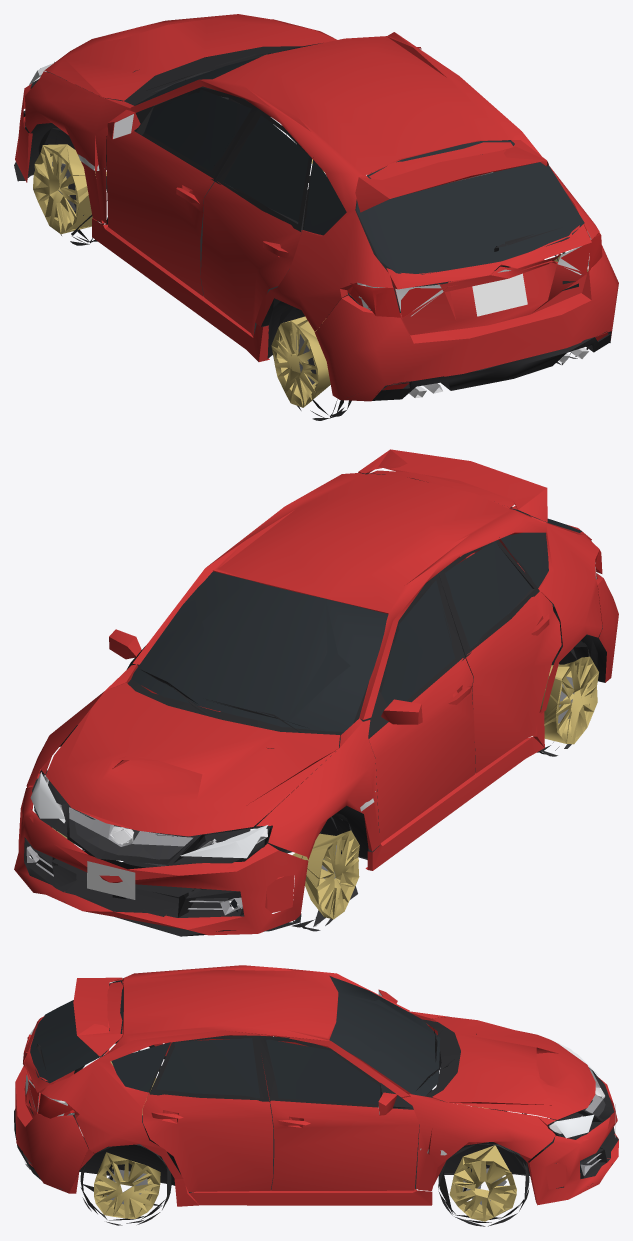
Rendered from impreza_lo.glb.
3 views of the same model, one above another, from view 1: azimuth 30°, elevation 25°; view 2: azimuth 150°, elevation 25°; view 3: azimuth 270°, elevation 25° (orthographic). The views are drawn at different scales.
Visible parts, largest first — view 1: body, wheel_fl, wheel_rl; view 2: body, wheel_fl, wheel_rl; view 3: body, wheel_fr, wheel_rr.
Part boxes in pixels (left/top/right/bottom): body: left=14, top=14, right=618, bottom=401; wheel_fl: left=33, top=128, right=107, bottom=245; wheel_rl: left=271, top=305, right=351, bottom=420; body: left=14, top=449, right=618, bottom=936; wheel_fl: left=286, top=813, right=359, bottom=931; wheel_rl: left=537, top=636, right=598, bottom=756; body: left=14, top=965, right=618, bottom=1206; wheel_fr: left=438, top=1142, right=529, bottom=1226; wheel_rr: left=80, top=1144, right=171, bottom=1225.
Bounding box in the file's own units: 1.97 × 1.51 × 4.43.
